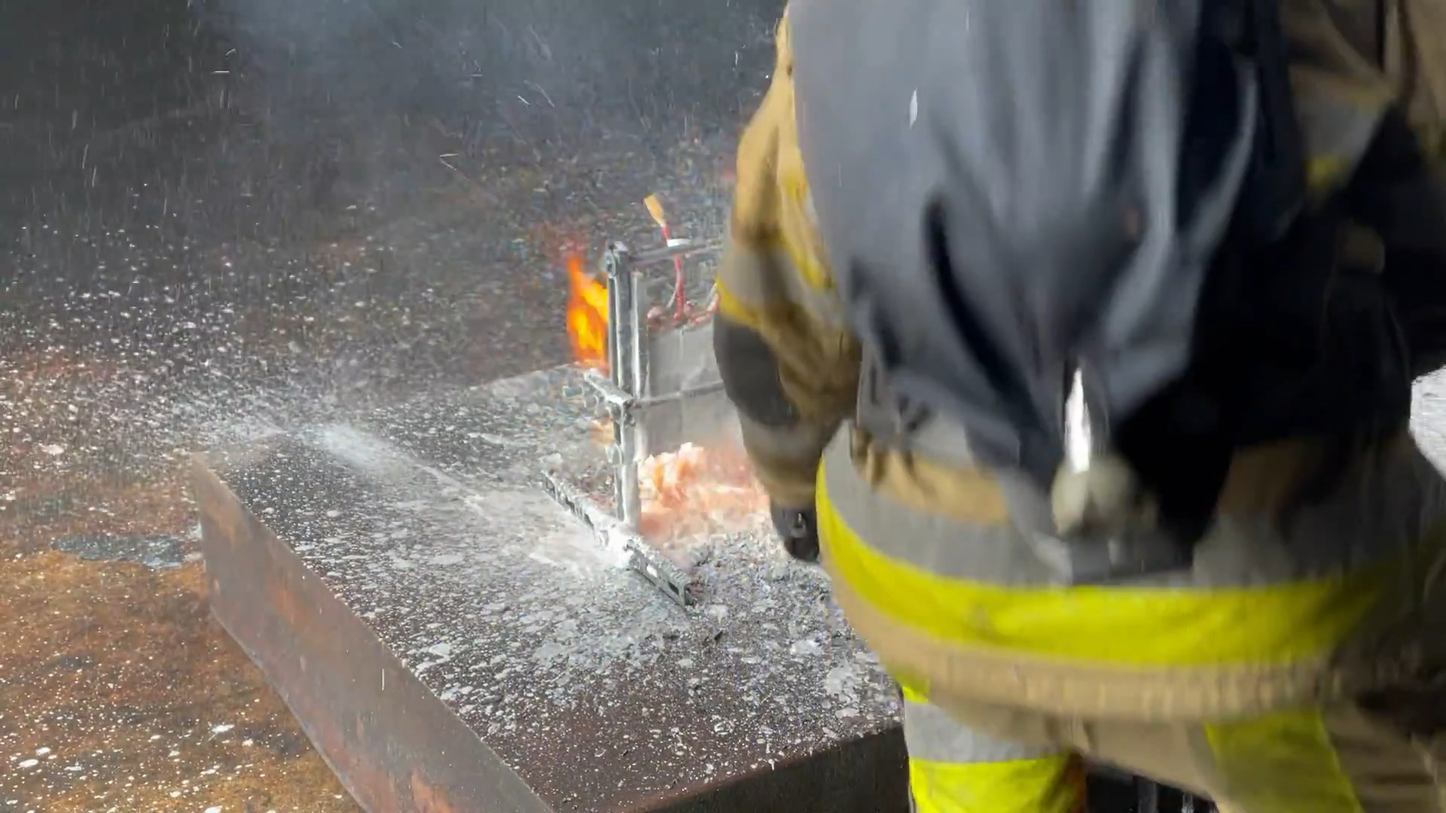fire: (634, 439, 770, 540), (560, 243, 613, 379)
